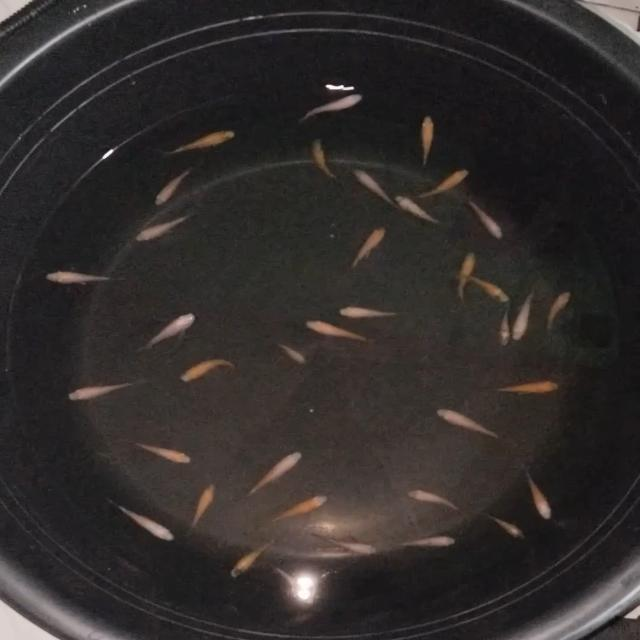nila: (245, 446, 310, 499), (108, 496, 178, 544), (160, 124, 238, 161), (343, 222, 390, 276), (433, 406, 501, 442), (293, 90, 367, 122), (302, 317, 378, 348), (138, 311, 198, 350), (454, 266, 512, 306), (133, 208, 194, 246), (220, 536, 272, 580), (270, 492, 330, 528), (128, 434, 194, 466), (62, 378, 140, 404), (521, 462, 554, 522), (450, 248, 480, 312), (466, 198, 508, 243), (178, 354, 241, 384), (154, 165, 194, 210), (510, 286, 540, 344), (308, 134, 344, 182), (396, 192, 444, 228), (538, 290, 572, 338), (314, 532, 382, 556), (192, 474, 220, 532), (488, 376, 565, 397), (356, 165, 396, 205), (421, 165, 468, 199), (485, 508, 525, 544), (414, 112, 436, 176), (44, 268, 117, 286), (394, 532, 459, 552), (406, 488, 463, 510), (336, 303, 403, 321), (492, 310, 512, 349), (280, 342, 308, 368), (276, 567, 296, 593)
